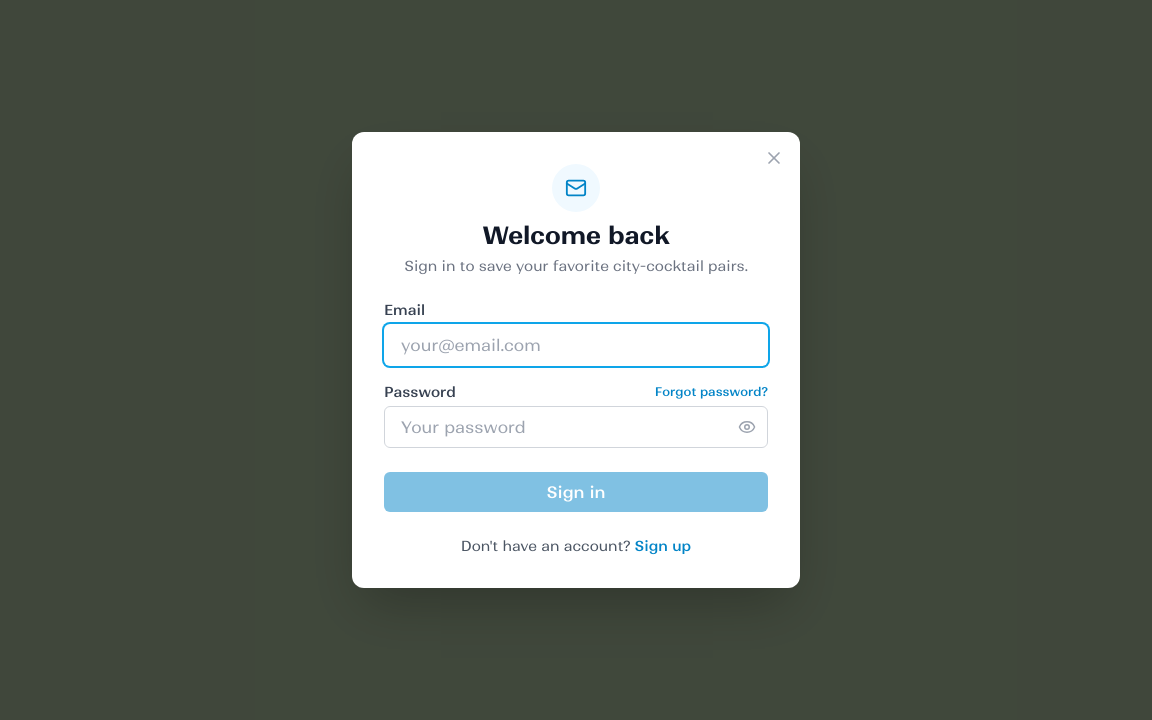
Test: AuthModal (standard auth flows) › forgot password: requests a link and shows the demo link when email is unconfigured
Later steps or results of the test are not shown.
Click the button "Forgot password?": (711, 392) [655,384,768,400]
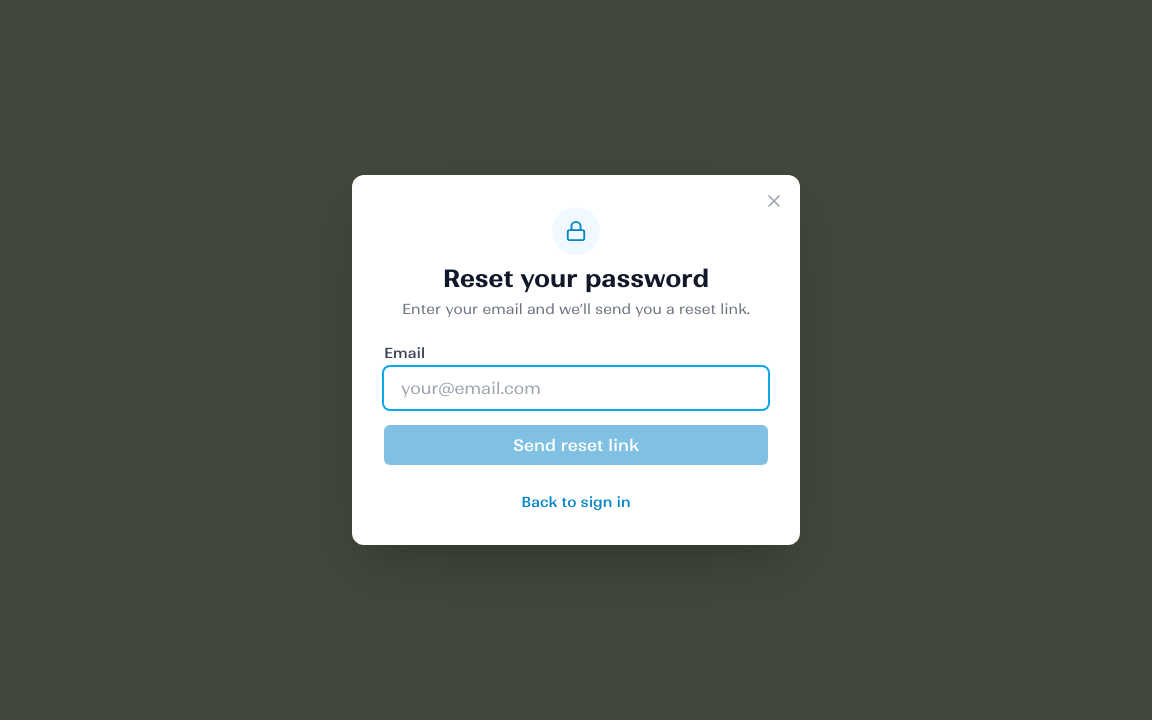
Check: the button "Send reset link" is shown, box [384,425,768,465]
